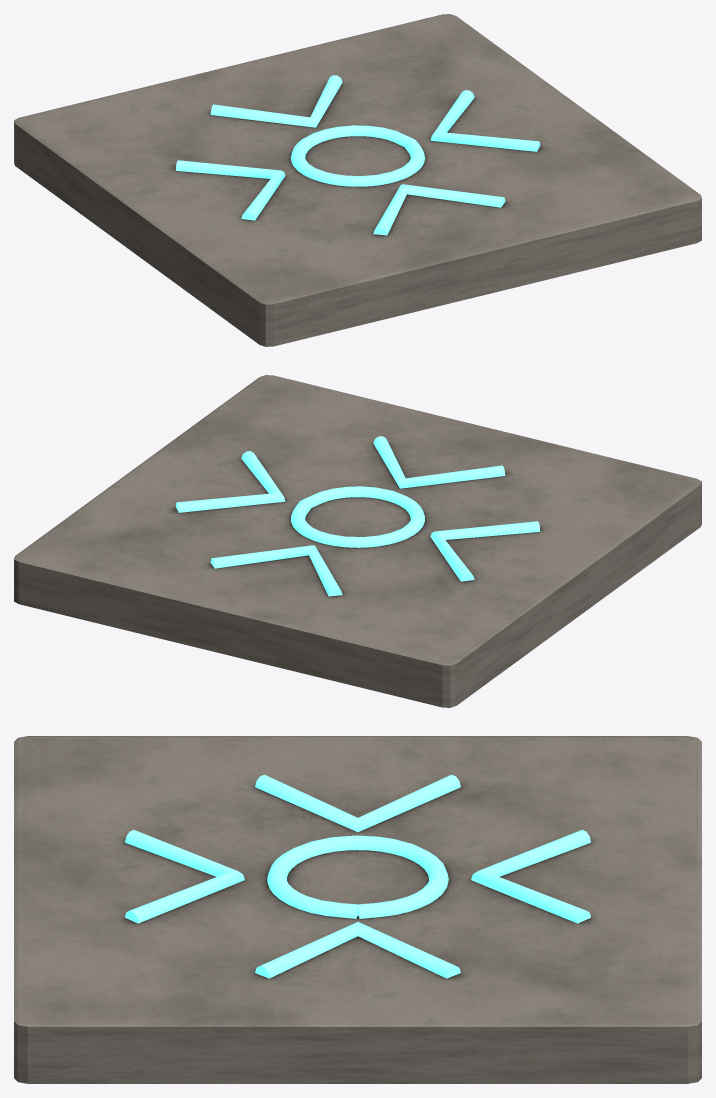
File: puzzle_placa_tampa.glb
The picture shows the model from 3 angles, top to bottom: view 1: azimuth 30°, elevation 25°; view 2: azimuth 150°, elevation 25°; view 3: azimuth 270°, elevation 25°; orthographic projection. The views are drawn at different scales.
Visible parts, largest first — view 1: puzzle_placa_tampa, circulo, sulco0, sulco2, sulco1, sulco3; view 2: puzzle_placa_tampa, circulo, sulco2, sulco0, sulco3, sulco1; view 3: puzzle_placa_tampa, circulo, sulco1, sulco3, sulco2, sulco0.
Part boxes in pixels (box(x1,y1,x2,y2)): puzzle_placa_tampa: box(14, 14, 701, 346); circulo: box(290, 125, 425, 186); sulco0: box(430, 90, 540, 151); sulco2: box(175, 160, 285, 220); sulco1: box(210, 75, 342, 127); sulco3: box(373, 184, 505, 235); puzzle_placa_tampa: box(14, 375, 701, 707); circulo: box(291, 486, 424, 547); sulco2: box(430, 521, 540, 581); sulco0: box(175, 451, 285, 512); sulco3: box(373, 436, 505, 488); sulco1: box(210, 545, 342, 596); puzzle_placa_tampa: box(14, 736, 701, 1083); circulo: box(267, 835, 448, 918); sulco1: box(471, 829, 590, 923); sulco3: box(125, 829, 244, 923); sulco2: box(255, 774, 460, 832); sulco0: box(255, 922, 460, 978).
Size of the model in its own units: 0.84 by 0.0924 by 0.84.
Materials: 6 (1 with a texture image).
